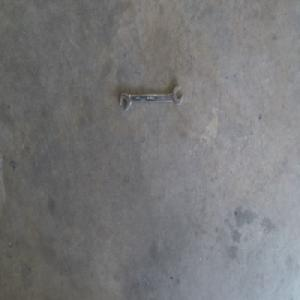Wrench: (119, 86, 182, 112)
